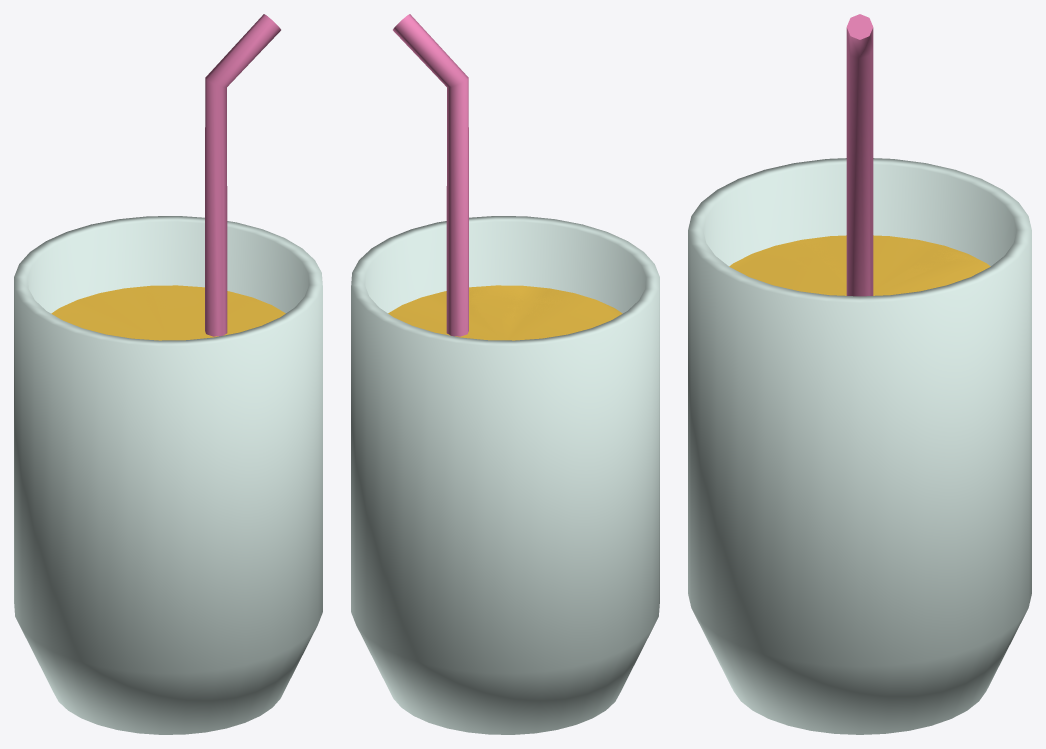
File: sunflower-smoothie.glb
The picture shows the model from 3 angles, left to right: view 1: azimuth 30°, elevation 25°; view 2: azimuth 150°, elevation 25°; view 3: azimuth 270°, elevation 25°; orthographic projection. The views are drawn at different scales.
Visible parts, largest first — view 1: container_cup.001, edible_drink.001, container_straw; view 2: container_cup.001, edible_drink.001, container_straw; view 3: container_cup.001, edible_drink.001, container_straw.
Part boxes in pixels (x1,y1,x2,y2): container_cup.001: (14, 216, 322, 734); edible_drink.001: (51, 285, 285, 340); container_straw: (205, 14, 280, 336); container_cup.001: (351, 216, 659, 734); edible_drink.001: (388, 285, 622, 340); container_straw: (393, 14, 468, 336); container_cup.001: (688, 158, 1031, 734); edible_drink.001: (729, 235, 990, 295); container_straw: (846, 14, 873, 296).
Size of the model in its own units: 0.09 by 0.2077 by 0.09.
